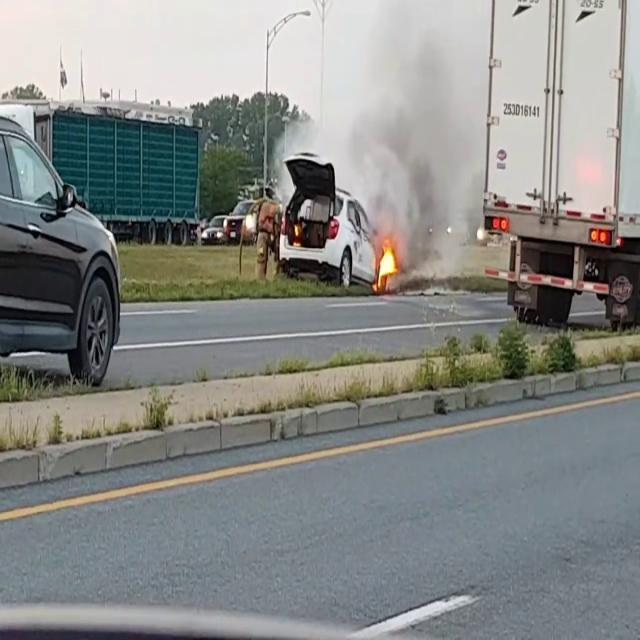Fire: (372, 238, 400, 289)
Smoke: (288, 0, 488, 244)
